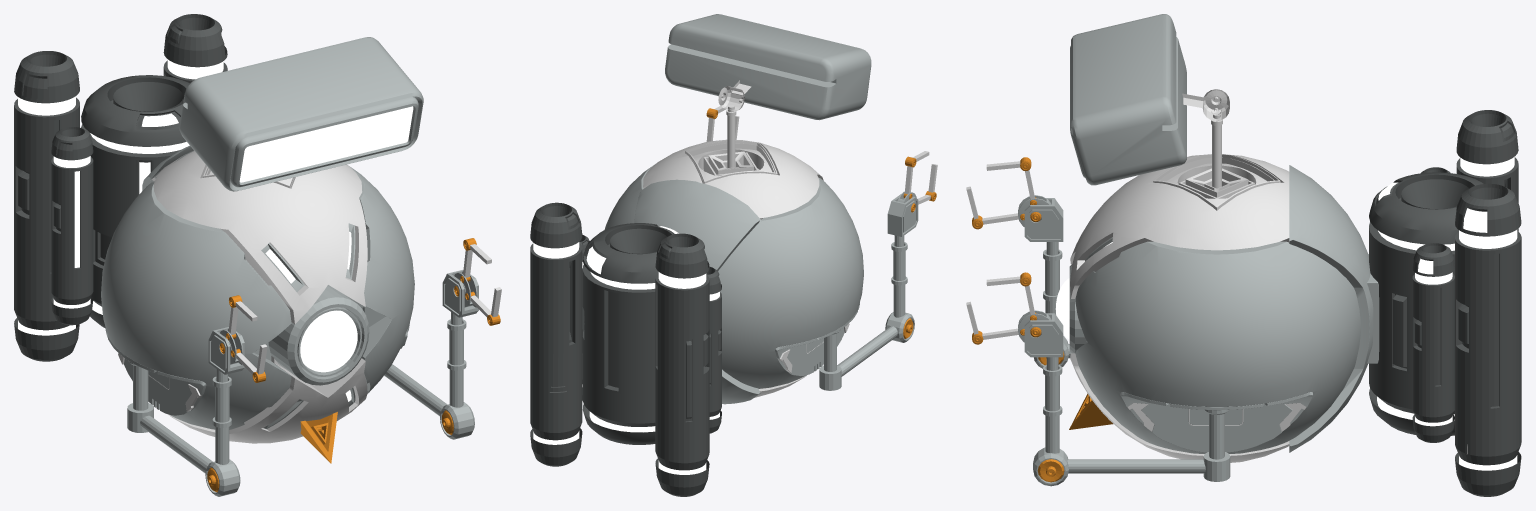
Rendered from book_seeker.glb.
The picture shows the model from 3 angles, left to right: view 1: azimuth 30°, elevation 25°; view 2: azimuth 150°, elevation 25°; view 3: azimuth 270°, elevation 25°; orthographic projection. The views are drawn at different scales.
Visible parts, largest first — view 1: armour, Cylinder.019, body, Cylinder.026, booster, Cylinder.024, arm, eyebox, Cylinder.025, eye, Icosphere.003_Plate, hand (+3 smaller); view 2: armour, booster, Cylinder.019, Cylinder.026, Cylinder.025, Icosphere_Plate, body, arm, Cylinder.024, Icosphere.003_Plate, head_base, hand (+2 smaller); view 3: armour, Cylinder.025, Cylinder.019, body, booster, Cylinder.023, Icosphere_Plate, arm, Icosphere.003_Plate, Cylinder.026, hand, head_base (+8 smaller).
Part boxes in pixels (box(x1,y1,x2,y2)): armour: box(101, 166, 414, 429); Cylinder.019: box(179, 37, 423, 191); body: box(152, 151, 367, 443); Cylinder.026: box(14, 51, 79, 361); booster: box(81, 75, 189, 328); Cylinder.024: box(51, 127, 93, 325); arm: box(127, 312, 474, 496); eyebox: box(268, 285, 369, 385); Cylinder.025: box(163, 14, 227, 83); eye: box(300, 310, 357, 372); Icosphere.003_Plate: box(105, 323, 409, 415); hand: box(208, 269, 478, 374); armour: box(604, 164, 863, 388); booster: box(582, 223, 678, 444); Cylinder.019: box(665, 14, 871, 120); Cylinder.026: box(655, 233, 709, 496); Cylinder.025: box(530, 202, 582, 466); Icosphere_Plate: box(634, 179, 761, 404); body: box(643, 139, 823, 397); arm: box(819, 235, 914, 390); Cylinder.024: box(706, 267, 721, 433); Icosphere.003_Plate: box(775, 303, 859, 376); head_base: box(689, 143, 774, 183); hand: box(887, 194, 918, 236); armour: box(1075, 241, 1360, 453); Cylinder.025: box(1455, 183, 1521, 496); Cylinder.019: box(1070, 14, 1186, 185); body: box(1070, 154, 1289, 462); booster: box(1369, 172, 1483, 435); Cylinder.023: box(1412, 243, 1454, 442); Icosphere_Plate: box(1289, 165, 1373, 452); arm: box(1033, 242, 1230, 486); Icosphere.003_Plate: box(1120, 392, 1313, 452); Cylinder.026: box(1456, 110, 1518, 231); hand: box(1024, 198, 1063, 357); head_base: box(1159, 157, 1274, 198).
Size of the model in its own units: 2.07 by 2.83 by 3.58.
